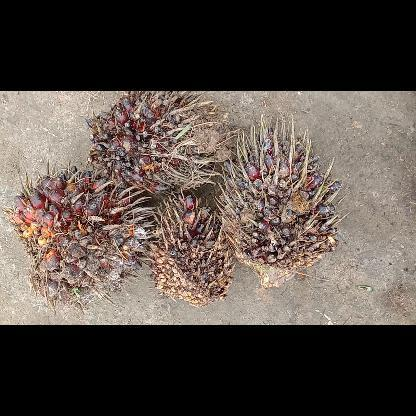TBS abnormal: (218, 116, 340, 286), (88, 90, 226, 194), (142, 193, 233, 306)
TBS masak: (8, 164, 146, 306)
